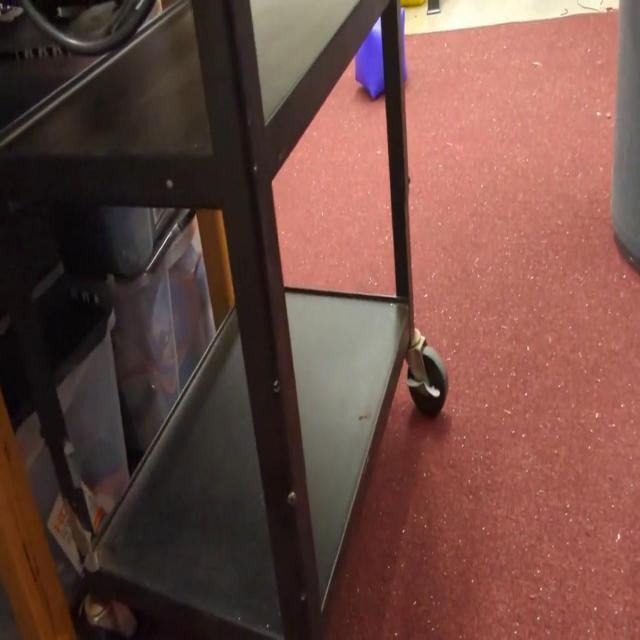frc_cube: (354, 8, 408, 100)
